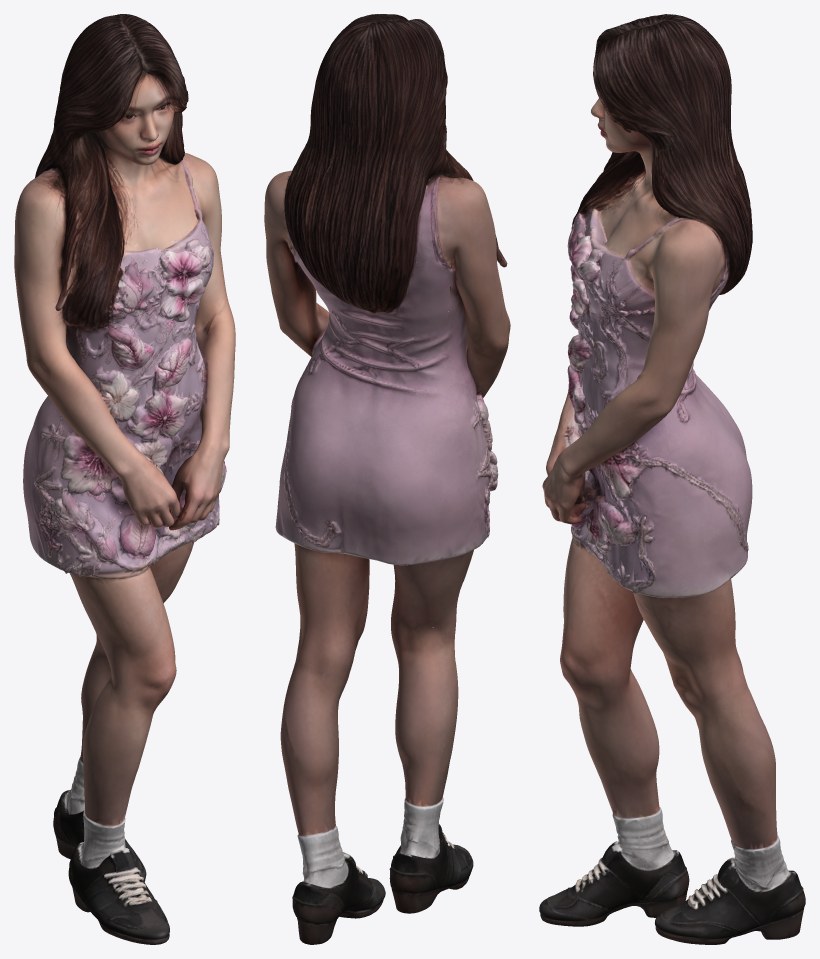
File: fashion+model+3d+model-reduced (1).glb
3 views of the same model, side by side, from view 1: azimuth 30°, elevation 25°; view 2: azimuth 150°, elevation 25°; view 3: azimuth 270°, elevation 25° (orthographic). The views are drawn at different scales.
Parts seen in each view (by area): view 1: tripo_node_0d9cbb18-c9f7-47bf-8d67-5db8581a0fda; view 2: tripo_node_0d9cbb18-c9f7-47bf-8d67-5db8581a0fda; view 3: tripo_node_0d9cbb18-c9f7-47bf-8d67-5db8581a0fda.
Part boxes in pixels (bbox=[...]): tripo_node_0d9cbb18-c9f7-47bf-8d67-5db8581a0fda: bbox=[14, 14, 235, 944]; tripo_node_0d9cbb18-c9f7-47bf-8d67-5db8581a0fda: bbox=[264, 14, 510, 944]; tripo_node_0d9cbb18-c9f7-47bf-8d67-5db8581a0fda: bbox=[539, 14, 805, 944].
Size of the model in its own units: 0.2489 by 0.98 by 0.26.
1 material, 1 textured.
